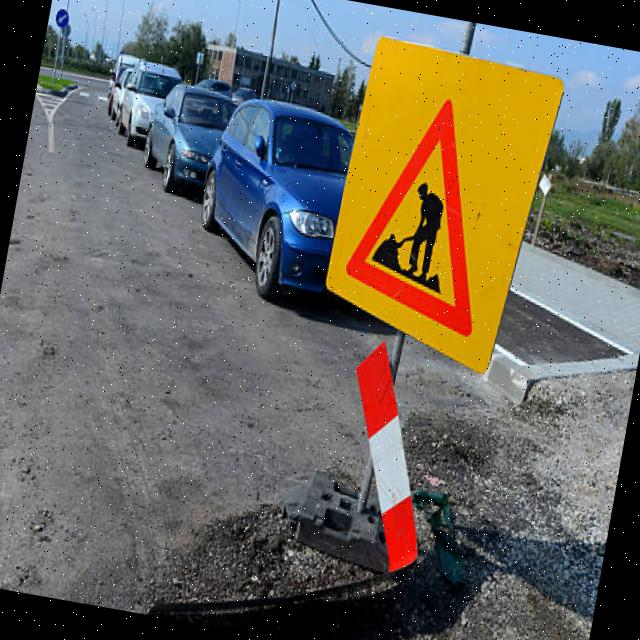road_work: (338, 89, 509, 333)
